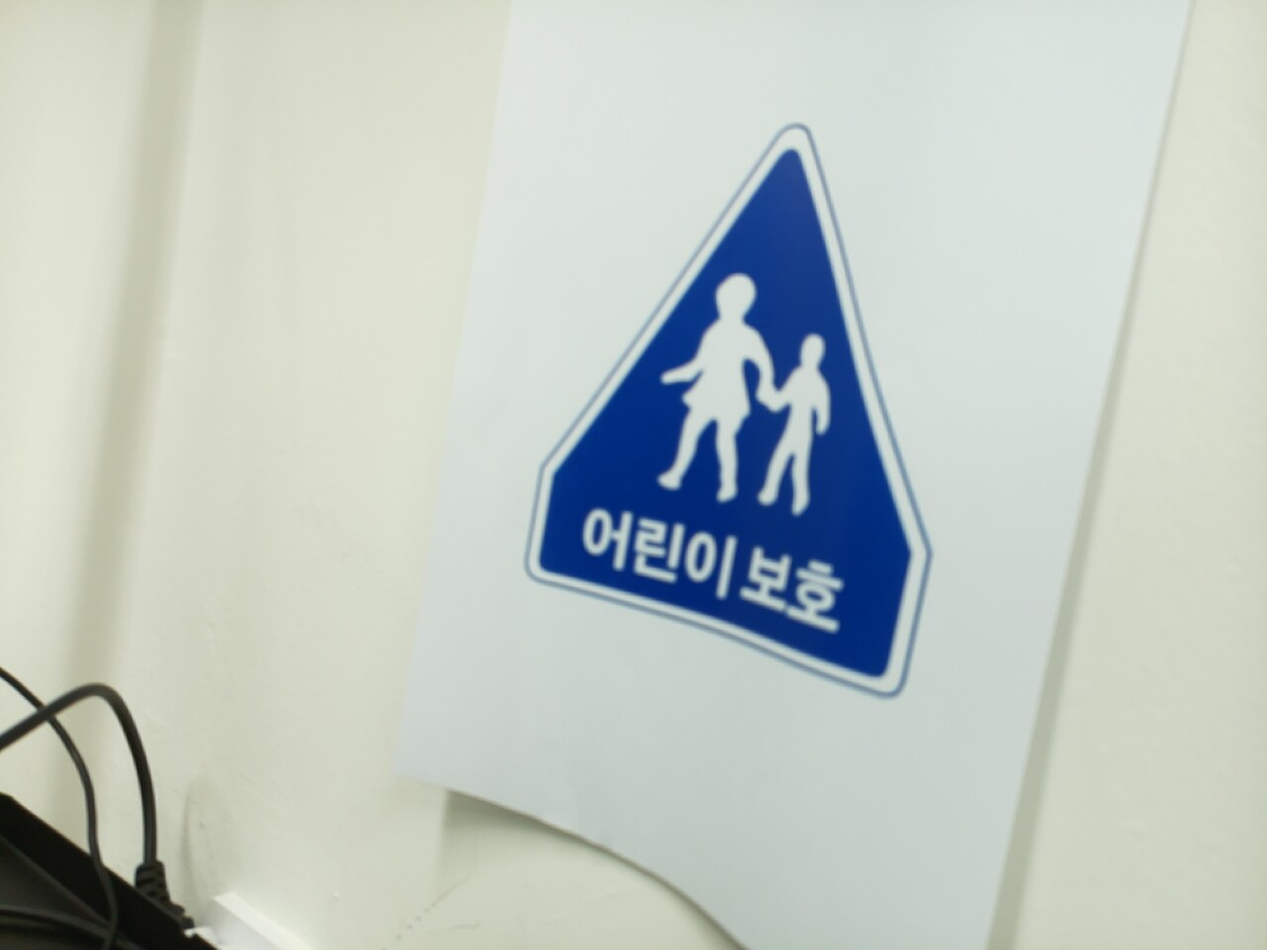school_zone: (529, 136, 923, 691)
